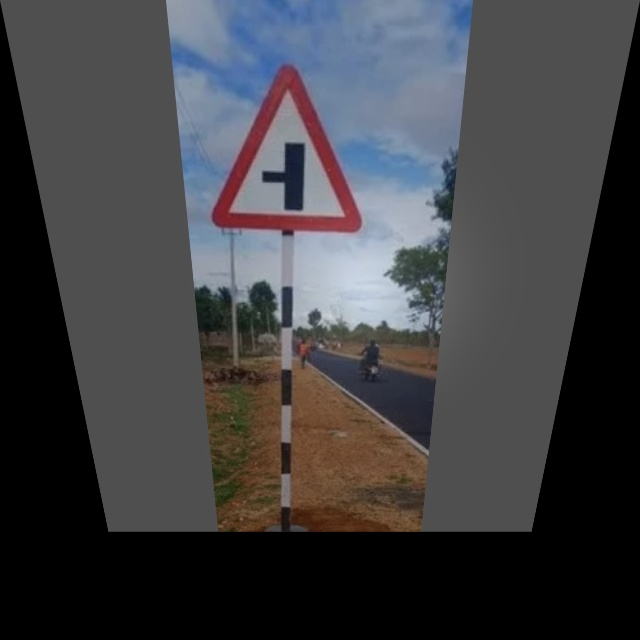Side_Road_Left: (205, 62, 367, 238)
